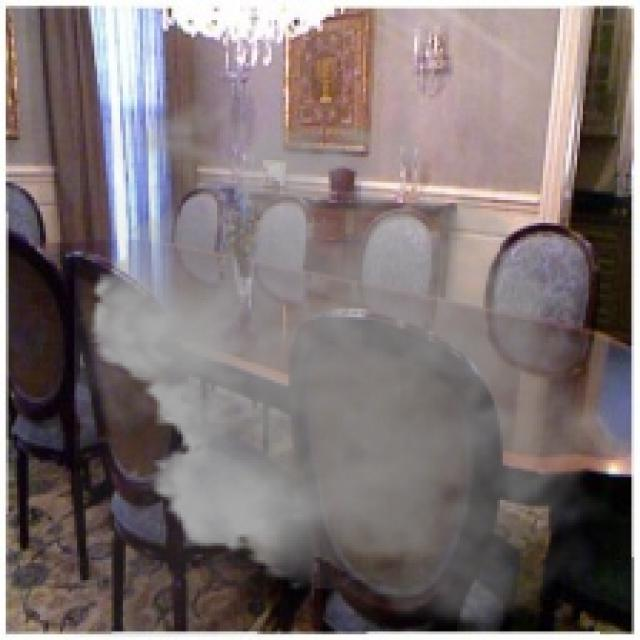smoke: (74, 83, 637, 637)
